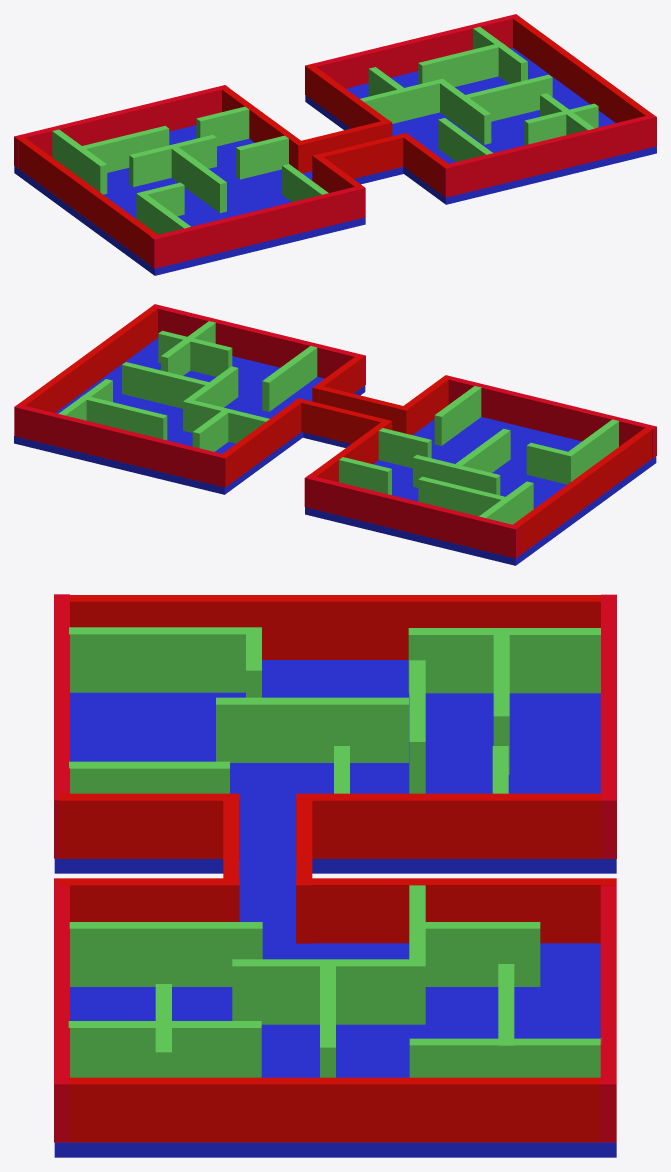
File: map3.fbx
3 views of the same model, one above another, from view 1: azimuth 30°, elevation 25°; view 2: azimuth 150°, elevation 25°; view 3: azimuth 270°, elevation 25° (orthographic). The views are drawn at different scales.
Visible parts, largest first — view 1: Cube, Cube.004, Cube.021, Cube.014, Cube.003, Cube.022, Cube.002, Cube.023, Cube.019, Cube.032, Cube.017, Cube.008 (+22 smaller); view 2: Cube, Cube.014, Cube.003, Cube.022, Cube.004, Cube.002, Cube.021, Cube.023, Cube.019, Cube.029, Cube.018, Cube.032 (+21 smaller); view 3: Cube, Cube.014, Cube.023, Cube.002, Cube.015, Cube.019, Cube.007, Cube.011, Cube.025, Cube.026, Cube.010, Cube.001 (+20 smaller).
Part boxes in pixels (bbox=[...]): Cube: bbox=[14, 125, 365, 275]; Cube.004: bbox=[150, 187, 365, 268]; Cube.021: bbox=[441, 114, 656, 197]; Cube.014: bbox=[305, 48, 656, 204]; Cube.003: bbox=[14, 85, 228, 168]; Cube.022: bbox=[305, 14, 519, 88]; Cube.002: bbox=[18, 138, 157, 264]; Cube.023: bbox=[513, 17, 652, 122]; Cube.019: bbox=[305, 64, 391, 137]; Cube.032: bbox=[418, 43, 505, 86]; Cube.017: bbox=[316, 133, 409, 178]; Cube.008: bbox=[129, 134, 216, 187]; Cube: bbox=[305, 417, 656, 565]; Cube.014: bbox=[14, 338, 365, 494]; Cube.003: bbox=[304, 475, 519, 558]; Cube.022: bbox=[14, 404, 225, 487]; Cube.004: bbox=[445, 375, 656, 458]; Cube.002: bbox=[513, 427, 652, 554]; Cube.021: bbox=[151, 304, 365, 387]; Cube.023: bbox=[18, 307, 157, 412]; Cube.019: bbox=[219, 398, 304, 486]; Cube.029: bbox=[122, 362, 208, 408]; Cube.018: bbox=[294, 398, 384, 443]; Cube.032: bbox=[80, 395, 167, 440]; Cube: bbox=[54, 660, 616, 873]; Cube.014: bbox=[54, 937, 616, 1157]; Cube.023: bbox=[69, 1077, 600, 1142]; Cube.002: bbox=[69, 595, 600, 659]; Cube.015: bbox=[296, 793, 600, 858]; Cube.019: bbox=[296, 878, 615, 943]; Cube.007: bbox=[216, 697, 408, 762]; Cube.011: bbox=[69, 627, 261, 692]; Cube.025: bbox=[69, 922, 262, 986]; Cube.026: bbox=[232, 959, 425, 1024]; Cube.010: bbox=[408, 628, 600, 693]; Cube.001: bbox=[59, 793, 239, 858].
Bounding box in the file's own units: 24661 × 1732 × 11966.
